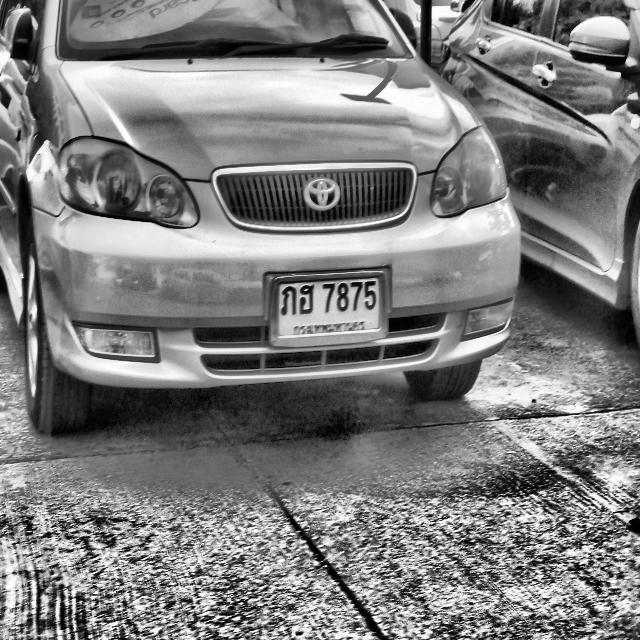license-plate: (267, 270, 387, 352)
